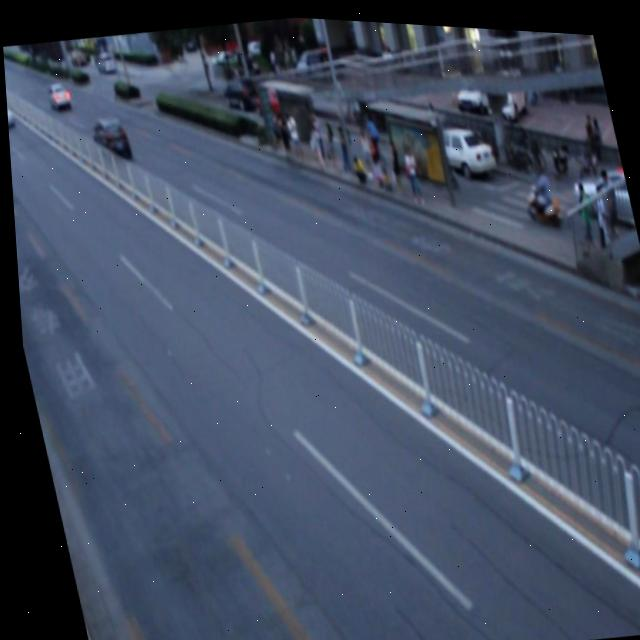car: (86, 112, 132, 166)
